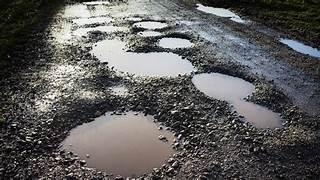pothole: (65, 110, 183, 178), (193, 72, 287, 134), (91, 39, 194, 76), (158, 35, 191, 50), (73, 15, 114, 27), (134, 20, 169, 29)
